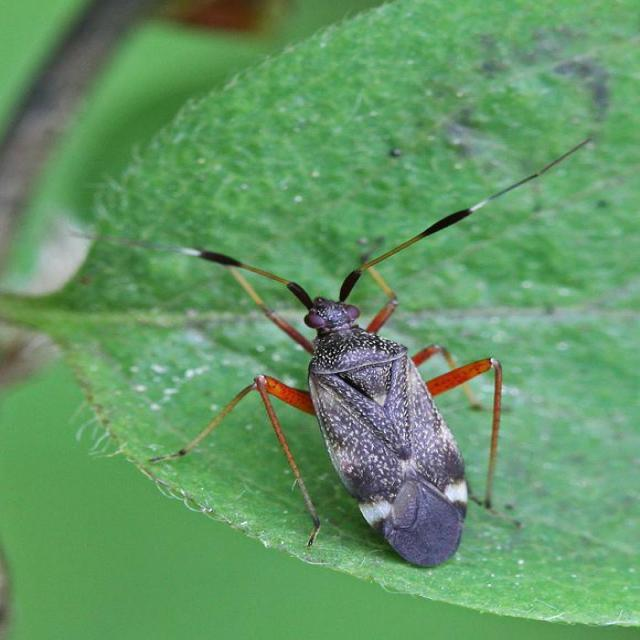Miridae-Adult-: (59, 122, 599, 563)
